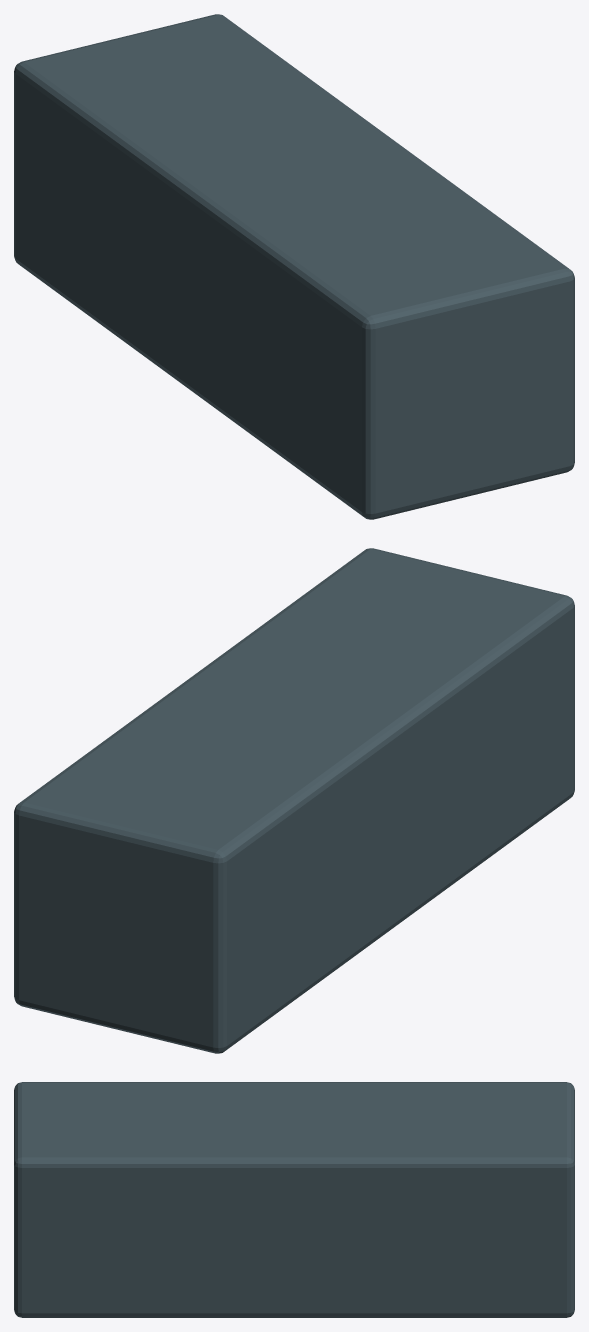
The model's file is carriage_z.obj.
3 views of the same model, one above another, from view 1: azimuth 30°, elevation 25°; view 2: azimuth 150°, elevation 25°; view 3: azimuth 270°, elevation 25° (orthographic). The views are drawn at different scales.
Visible parts, largest first — view 1: flex__carriage_z__slide; view 2: flex__carriage_z__slide; view 3: flex__carriage_z__slide.
Part boxes in pixels (<box>): flex__carriage_z__slide: <box>14,14,574,519</box>; flex__carriage_z__slide: <box>14,548,574,1053</box>; flex__carriage_z__slide: <box>14,1082,574,1317</box>.
Bounding box in the file's own units: 0.048 × 0.044 × 0.14.
